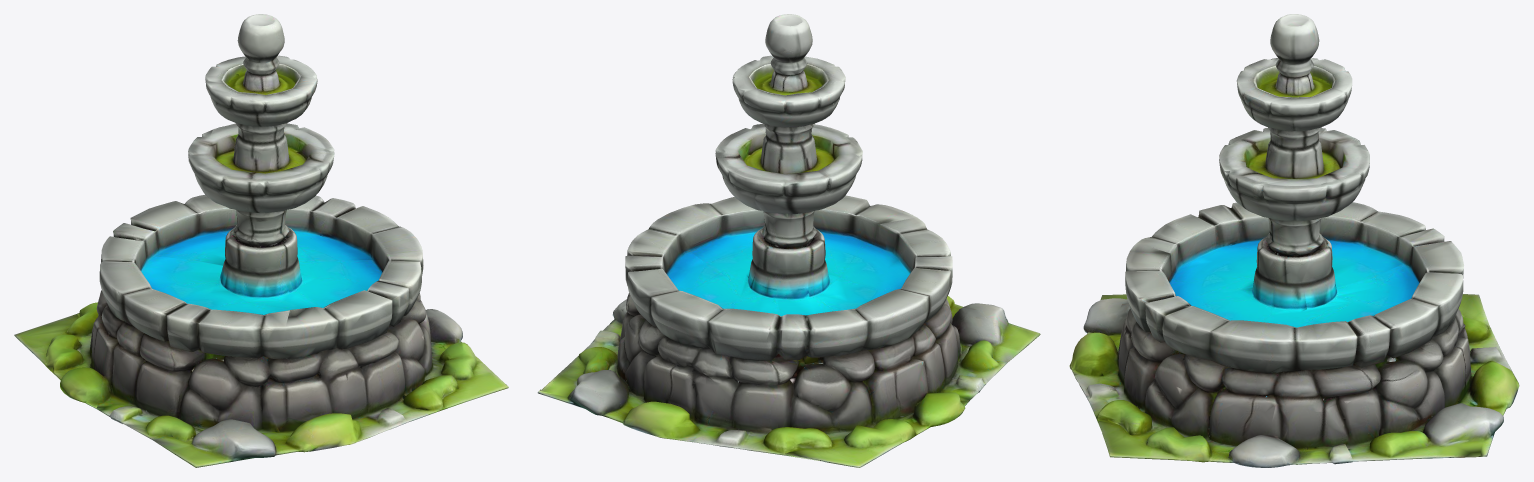
The model's file is item_fountain.glb.
3 renders of one model, left to right at view 1: azimuth 30°, elevation 25°; view 2: azimuth 150°, elevation 25°; view 3: azimuth 270°, elevation 25°, orthographic. The views are drawn at different scales.
Size of the model in its own units: 1.84 by 1.67 by 1.9.
1 material, 1 textured.
